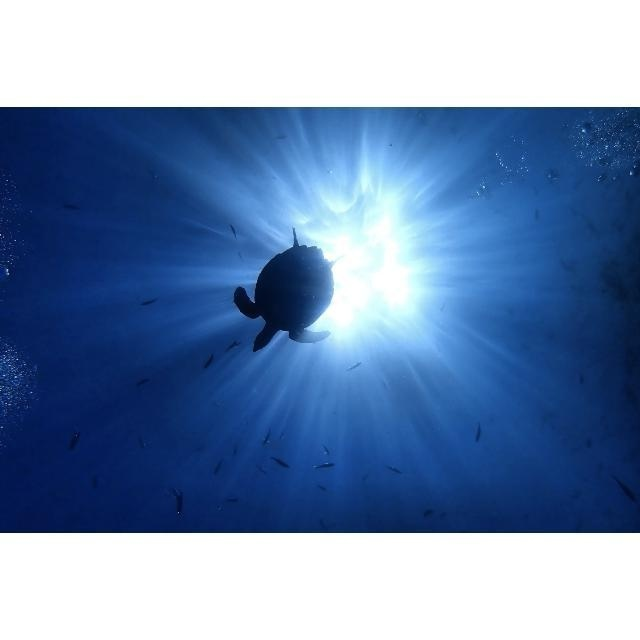turtle: (233, 225, 343, 352)
